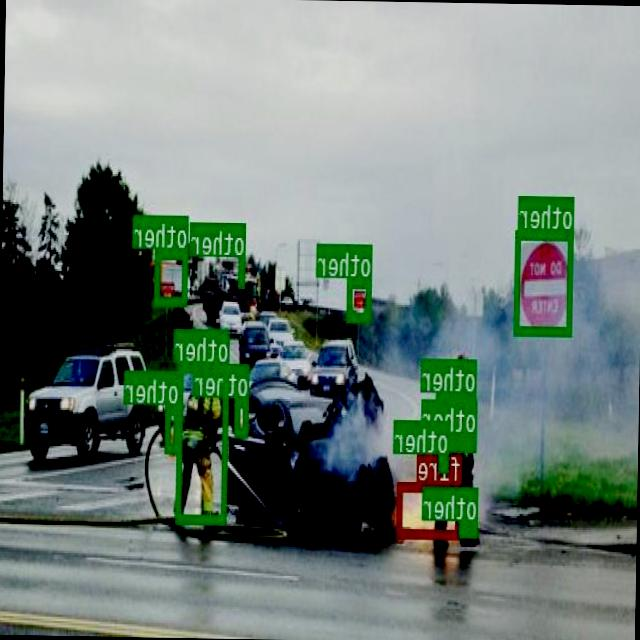fire: (398, 480, 462, 538)
